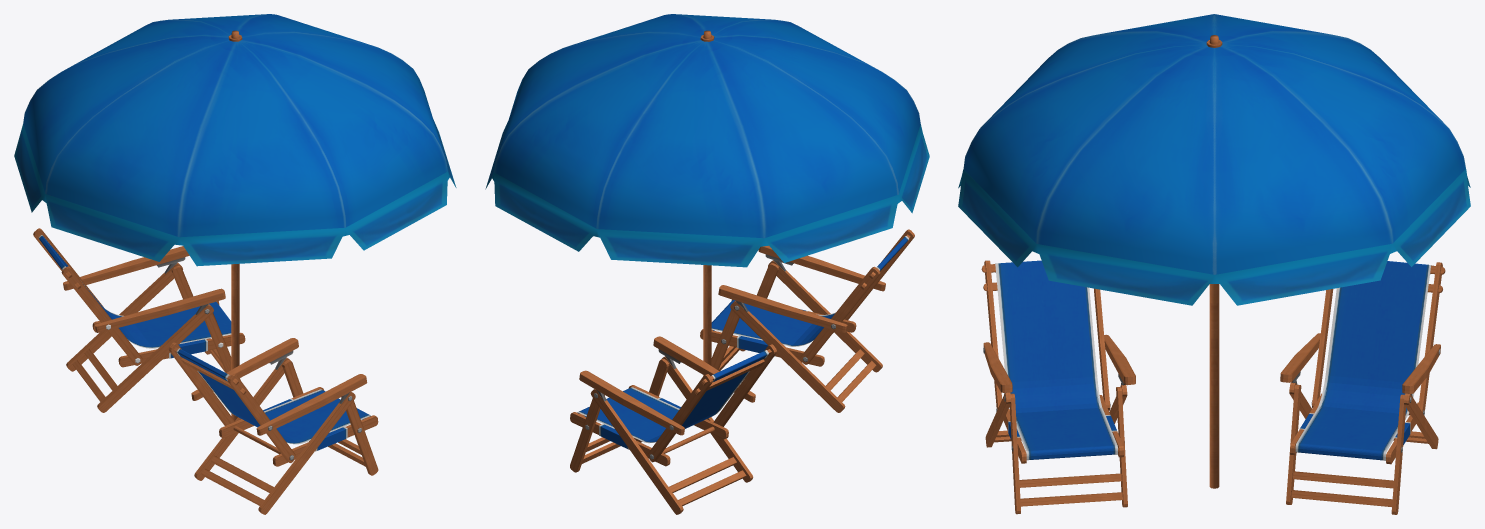
The model's file is umbrella_wooden_chair.glb.
3 views of the same model, side by side, from view 1: azimuth 30°, elevation 25°; view 2: azimuth 150°, elevation 25°; view 3: azimuth 270°, elevation 25° (orthographic). The views are drawn at different scales.
Parts seen in each view (by area): view 1: Object_33, Object_34, Object_36, Object_35, Object_30, Object_31, Object_6, Object_7, Object_26, Object_4, Object_9, Object_5 (+2 smaller); view 2: Object_33, Object_36, Object_34, Object_30, Object_6, Object_35, Object_9, Object_26, Object_28, Object_7, Object_31, Object_29 (+2 smaller); view 3: Object_33, Object_34, Object_36, Object_3, Object_27, Object_30, Object_35, Object_6, Object_31, Object_26, Object_9, Object_7.
Boxes of the visible parts, bbox=[...] form: Object_33: bbox=[14, 14, 456, 514]; Object_34: bbox=[168, 342, 370, 462]; Object_36: bbox=[33, 228, 231, 365]; Object_35: bbox=[97, 302, 240, 412]; Object_30: bbox=[66, 262, 210, 371]; Object_31: bbox=[94, 288, 225, 332]; Object_6: bbox=[194, 357, 309, 480]; Object_7: bbox=[256, 374, 367, 435]; Object_26: bbox=[63, 246, 189, 290]; Object_4: bbox=[201, 456, 273, 505]; Object_9: bbox=[191, 338, 298, 400]; Object_5: bbox=[219, 387, 378, 466]; Object_33: bbox=[485, 14, 929, 375]; Object_36: bbox=[577, 344, 776, 462]; Object_34: bbox=[711, 229, 914, 364]; Object_30: bbox=[570, 389, 683, 514]; Object_6: bbox=[711, 301, 845, 412]; Object_35: bbox=[579, 349, 753, 482]; Object_9: bbox=[718, 285, 847, 332]; Object_26: bbox=[579, 370, 684, 435]; Object_28: bbox=[669, 457, 746, 506]; Object_7: bbox=[758, 245, 885, 291]; Object_31: bbox=[653, 336, 755, 402]; Object_29: bbox=[570, 385, 728, 466]; Object_33: bbox=[958, 14, 1470, 514]; Object_34: bbox=[984, 260, 1117, 460]; Object_36: bbox=[1295, 261, 1442, 460]; Object_3: bbox=[1019, 473, 1122, 506]; Object_27: bbox=[1291, 471, 1393, 506]; Object_30: bbox=[1391, 393, 1438, 514]; Object_35: bbox=[1286, 371, 1410, 504]; Object_6: bbox=[1109, 385, 1127, 507]; Object_31: bbox=[1280, 333, 1320, 382]; Object_26: bbox=[1402, 344, 1440, 393]; Object_9: bbox=[1104, 334, 1135, 384]; Object_7: bbox=[983, 342, 1012, 392].
Size of the model in its own units: 21.94 by 21.26 by 21.96.
35 materials, 32 textured.
